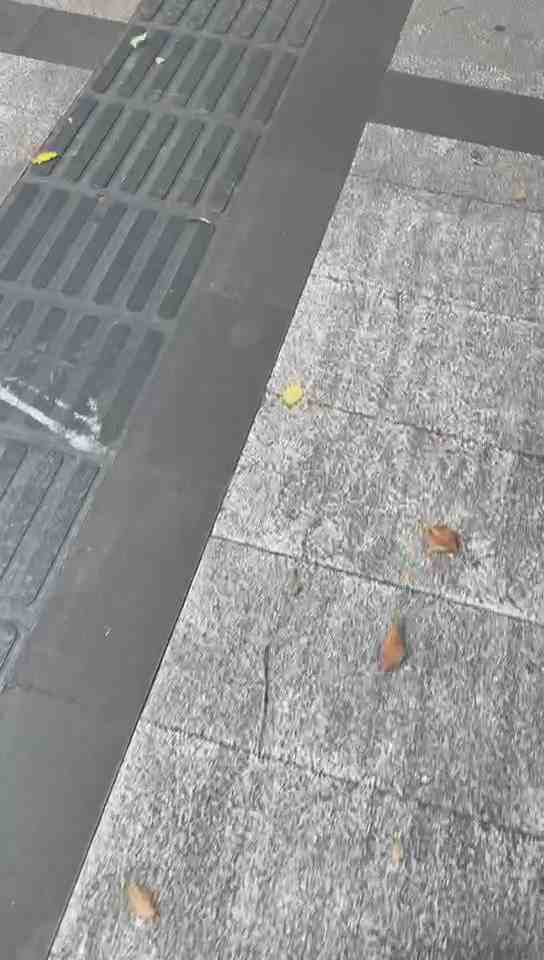leaf: (115, 873, 162, 928), (373, 618, 411, 674), (416, 522, 461, 559), (278, 381, 307, 405), (31, 147, 61, 164)
